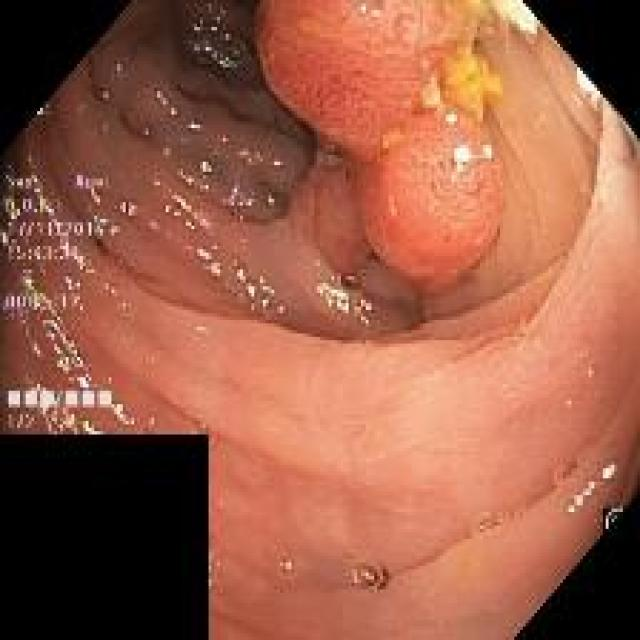Polyps: (258, 1, 504, 291)
